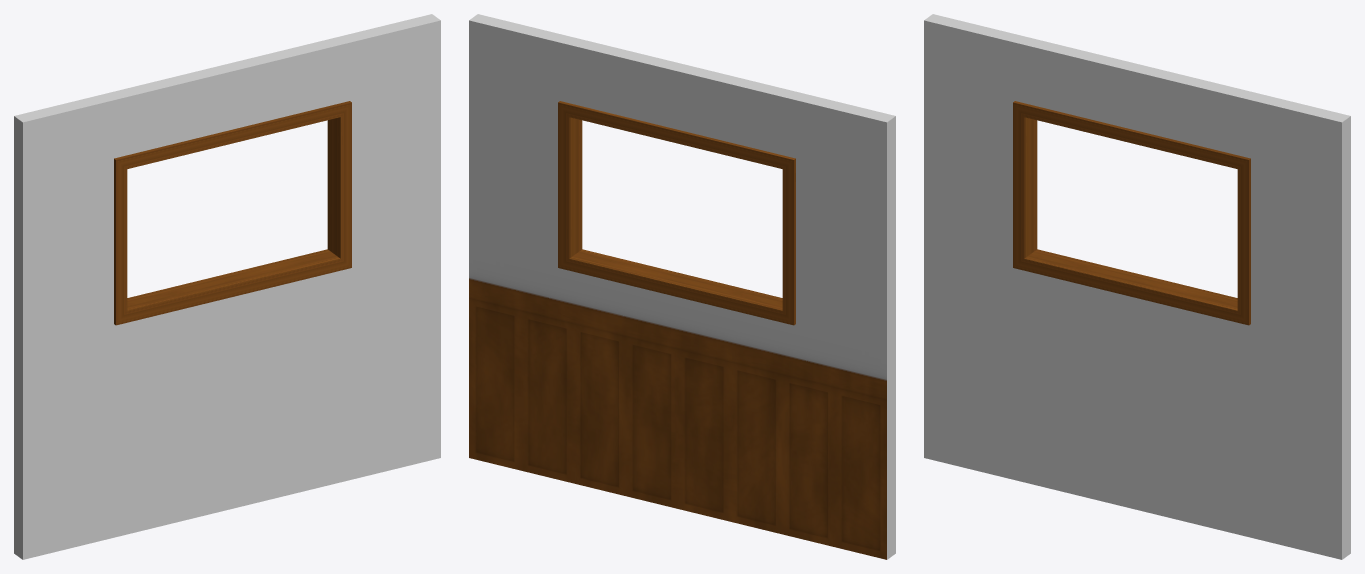
Rendered from WallWindowWBricks.fbx.
3 views of the same model, side by side, from view 1: azimuth 30°, elevation 25°; view 2: azimuth 150°, elevation 25°; view 3: azimuth 330°, elevation 25° (orthographic).
Visible parts, largest first — view 1: wallwindow.001; view 2: wallwindow.001; view 3: wallwindow.001.
Part boxes in pixels (x1=…): wallwindow.001: x1=14, y1=14, x2=440, y2=559; wallwindow.001: x1=469, y1=14, x2=895, y2=559; wallwindow.001: x1=924, y1=14, x2=1350, y2=559.
Size of the model in its own units: 200 by 200 by 10.79.
2 materials, 1 textured.
